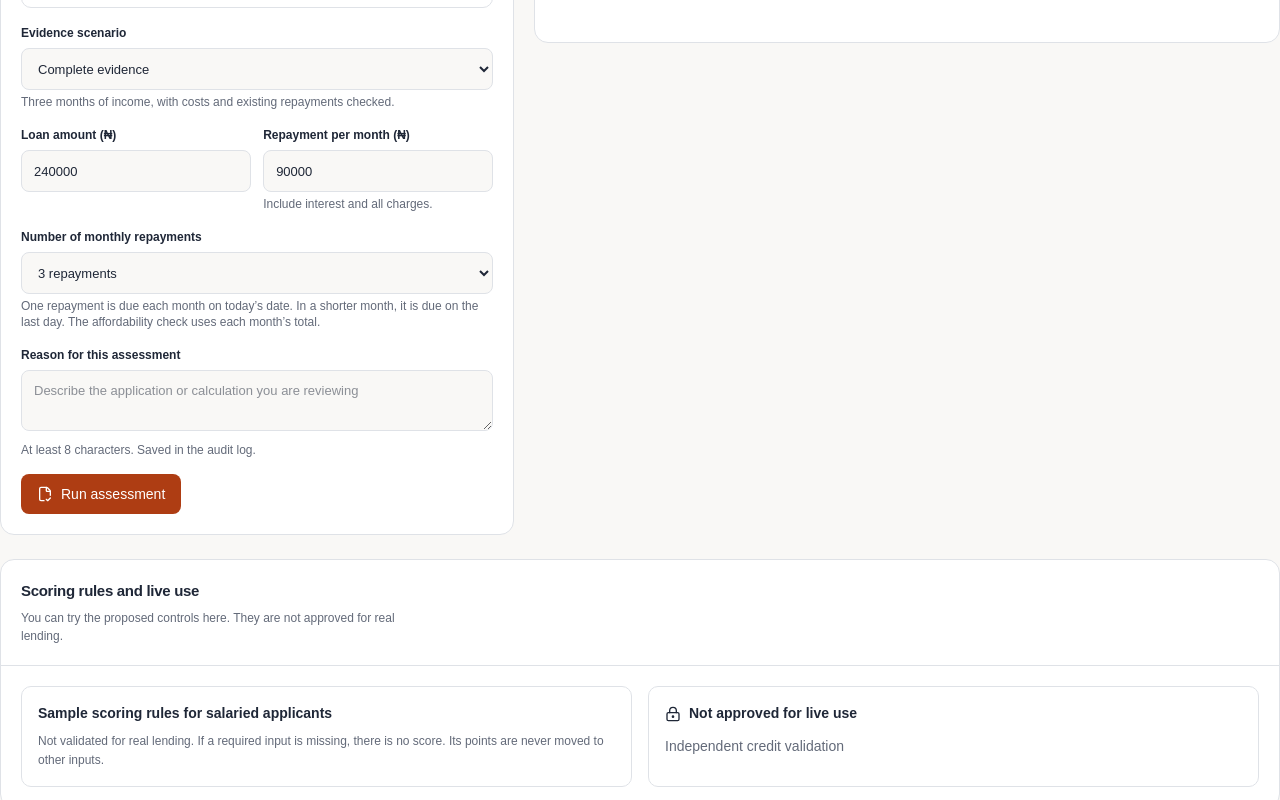
Test case: Credit Desk synthetic journeys › says a reason's minimum under the field and refuses a short one in its own words
(page scrolled)
Expected: the text "At least 8 characters. Saved in the audit log." is shown, [21,443,256,457]
Type "Short" into the text box labelled "Reason for this assessment".
click(257, 401); type("Short")  # box [21,370,493,431]
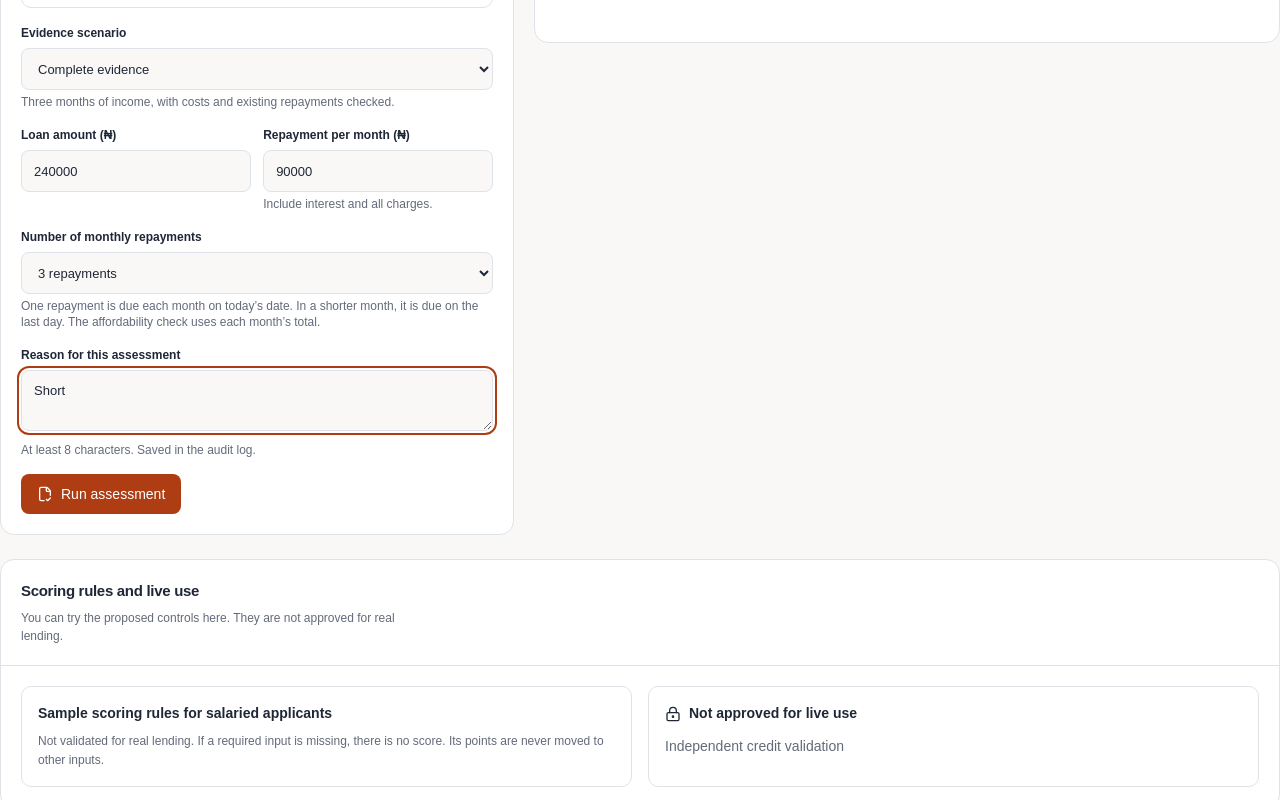
Click the button "Run assessment".
click(101, 494)  # box [21,474,181,514]
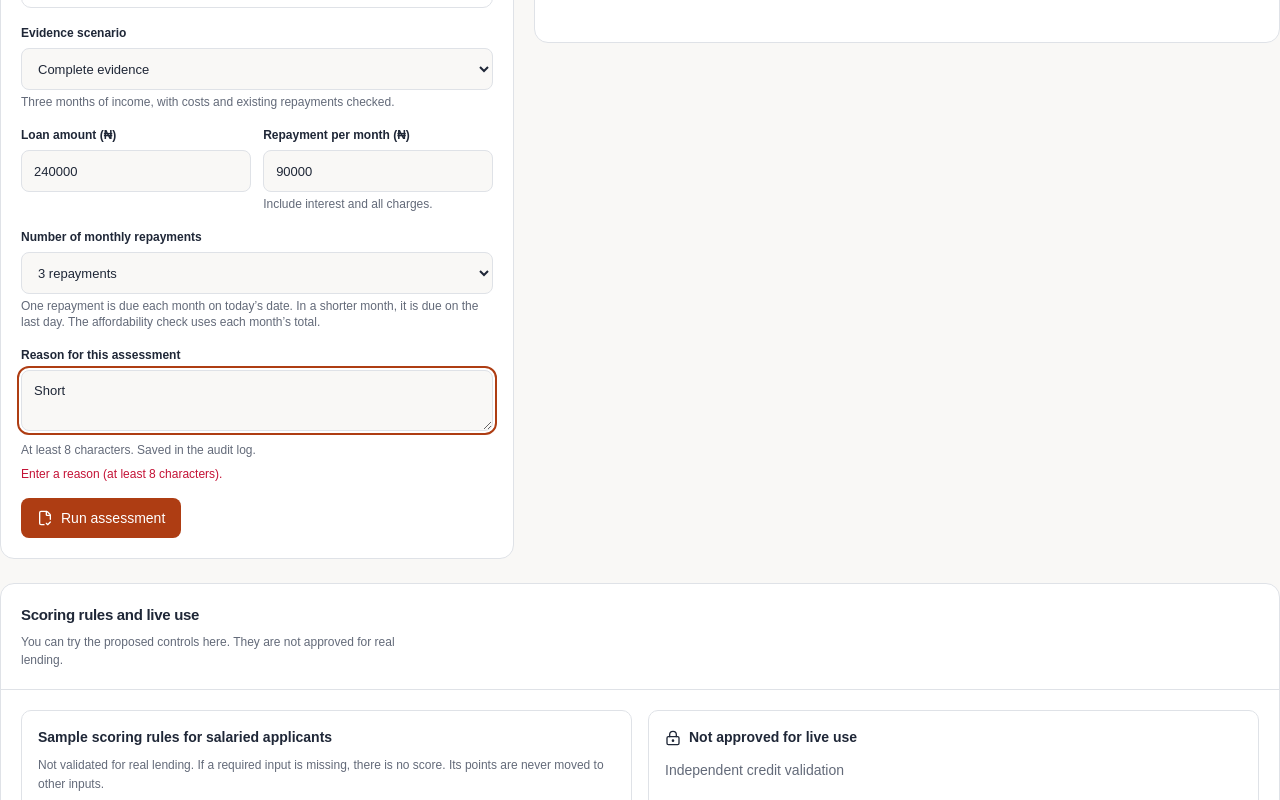
Expected: the message reads "Enter a reason (at least 8 characters).", [21,467,222,481]
